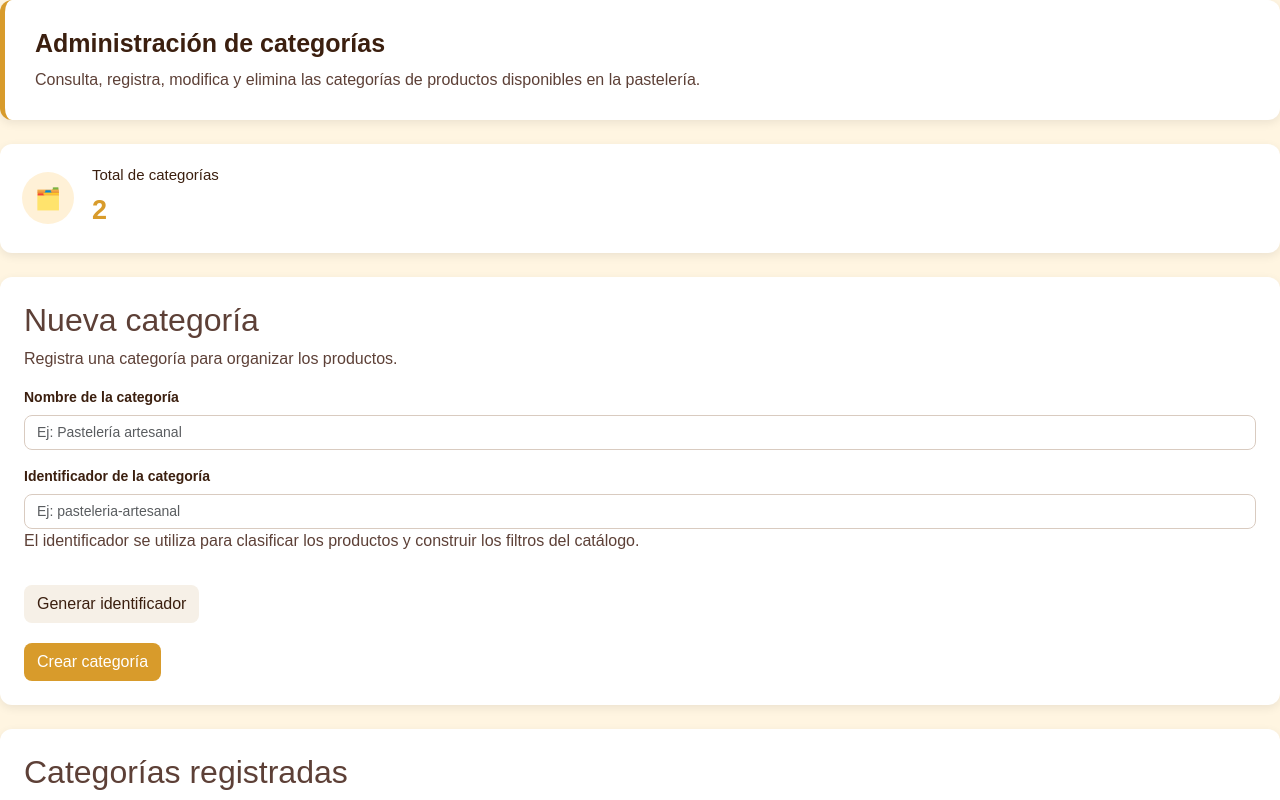
Scenario: C3-09 - Administración de categorías › genera un identificador a partir del nombre
Type "Pastelería Artesanal" into the field labelled "Nombre de la categoría" at coordinates (640, 432), box [24,415,1256,450]
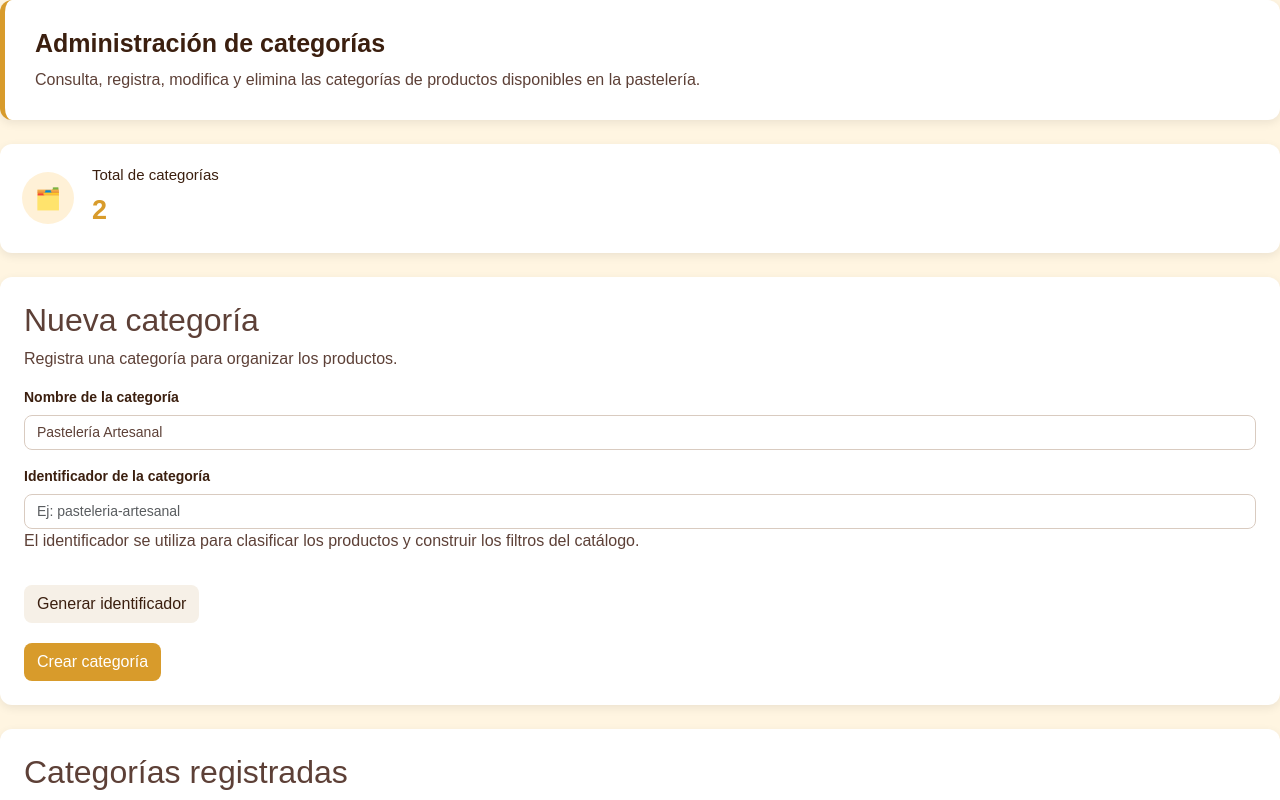
Click the button "Generar identificador" at coordinates (112, 604), box [24,585,199,623]
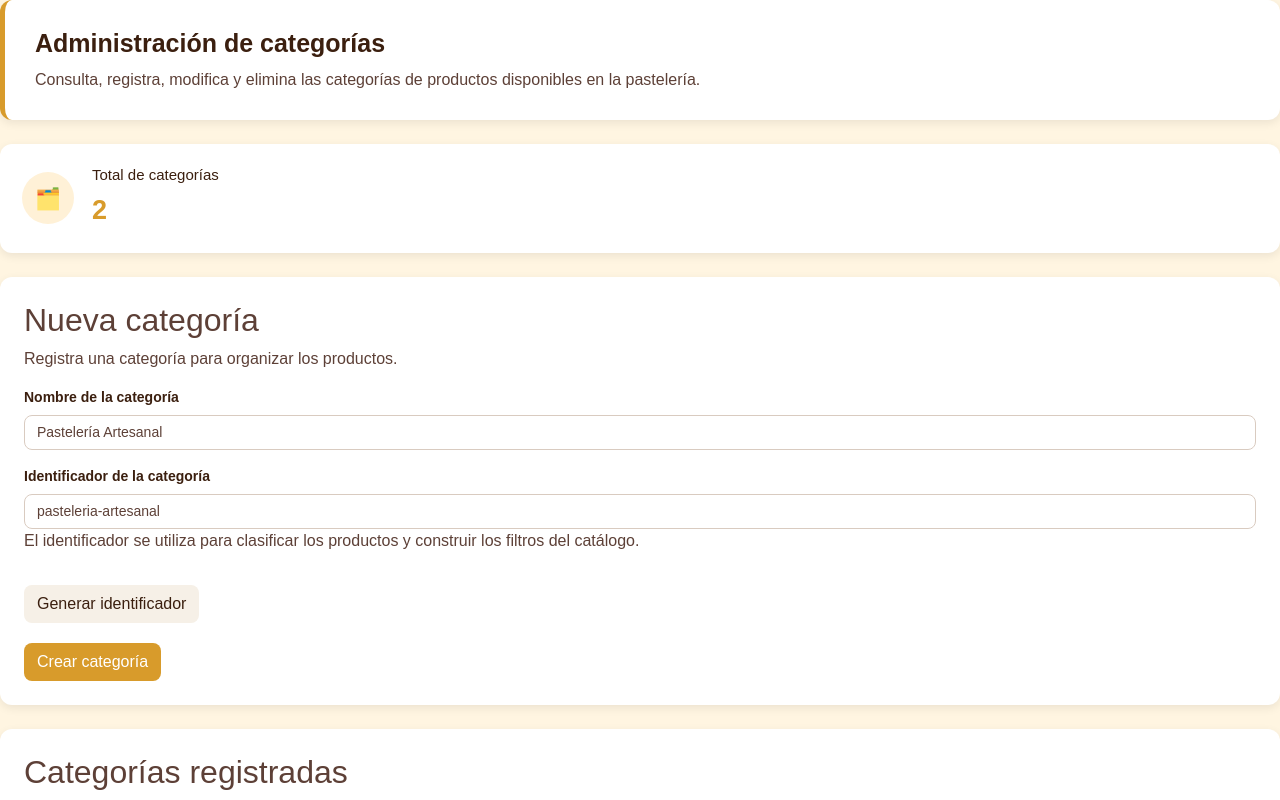
Expected: the field labelled "Identificador de la categoría" holds "pasteleria-artesanal", [24,494,1256,529]
